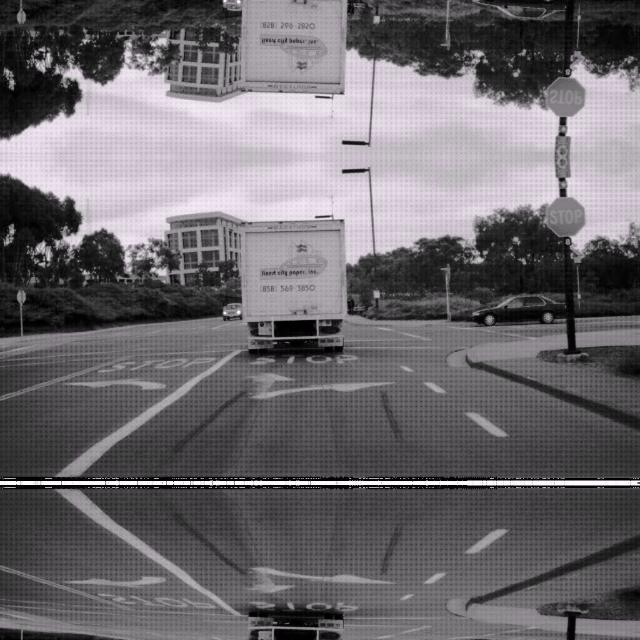stop: (545, 194, 585, 236), (545, 76, 585, 118)
